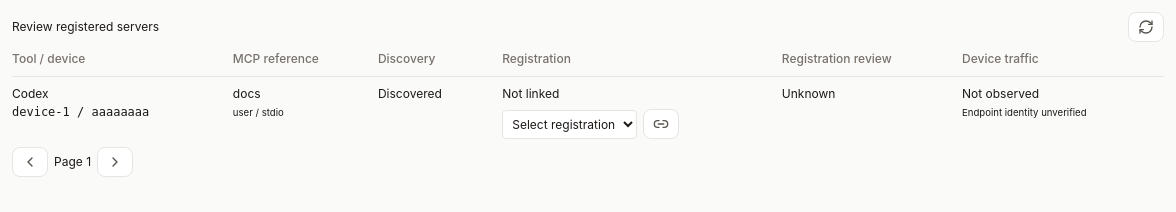
Scenario: reports conflict without pretending the link succeeded
Select "Docs registry" in the dropdown at x=570, y=124, box top-left (502, 110), bottom-right (637, 138)
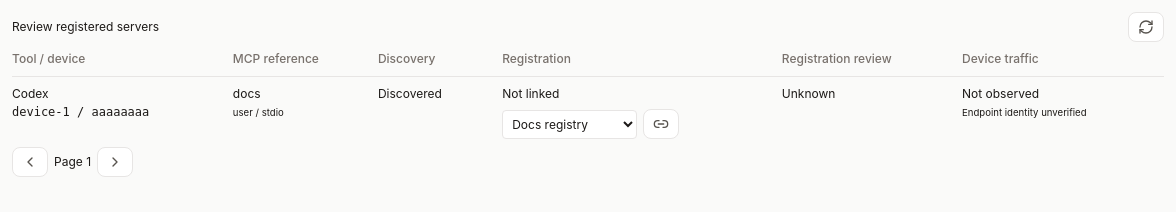
Click the button named "Link docs" at x=661, y=124, box top-left (643, 109), bottom-right (679, 139)
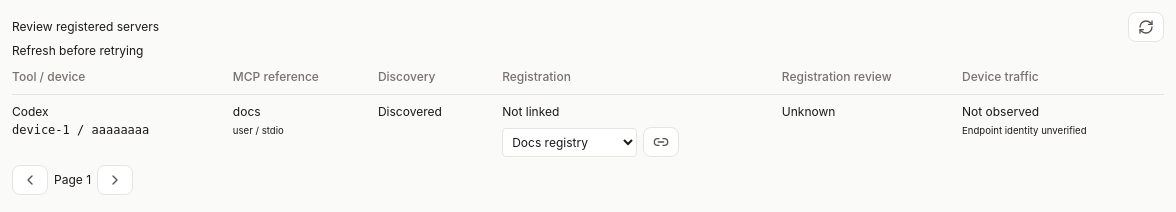
Result: the message reads "Refresh before retrying" at top-left (12, 43), bottom-right (144, 58)
